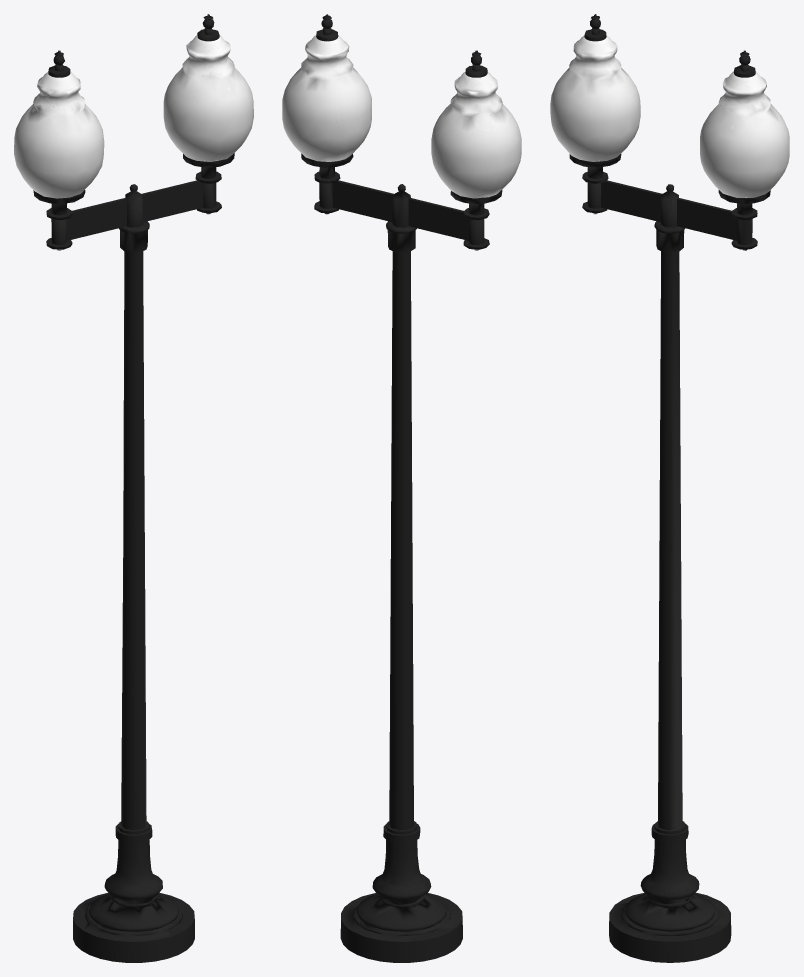
Rendered from farola_globos.obj.
3 views of the same model, side by side, from view 1: azimuth 30°, elevation 25°; view 2: azimuth 150°, elevation 25°; view 3: azimuth 330°, elevation 25° (orthographic).
Visible parts, largest first — view 1: farola_globos; view 2: farola_globos; view 3: farola_globos.
Part boxes in pixels (left/top/right/bottom): farola_globos: left=14, top=14, right=253, bottom=962; farola_globos: left=282, top=14, right=521, bottom=962; farola_globos: left=550, top=14, right=789, bottom=962.
Bounding box in the file's own units: 1.11 × 4.2 × 0.5143.
